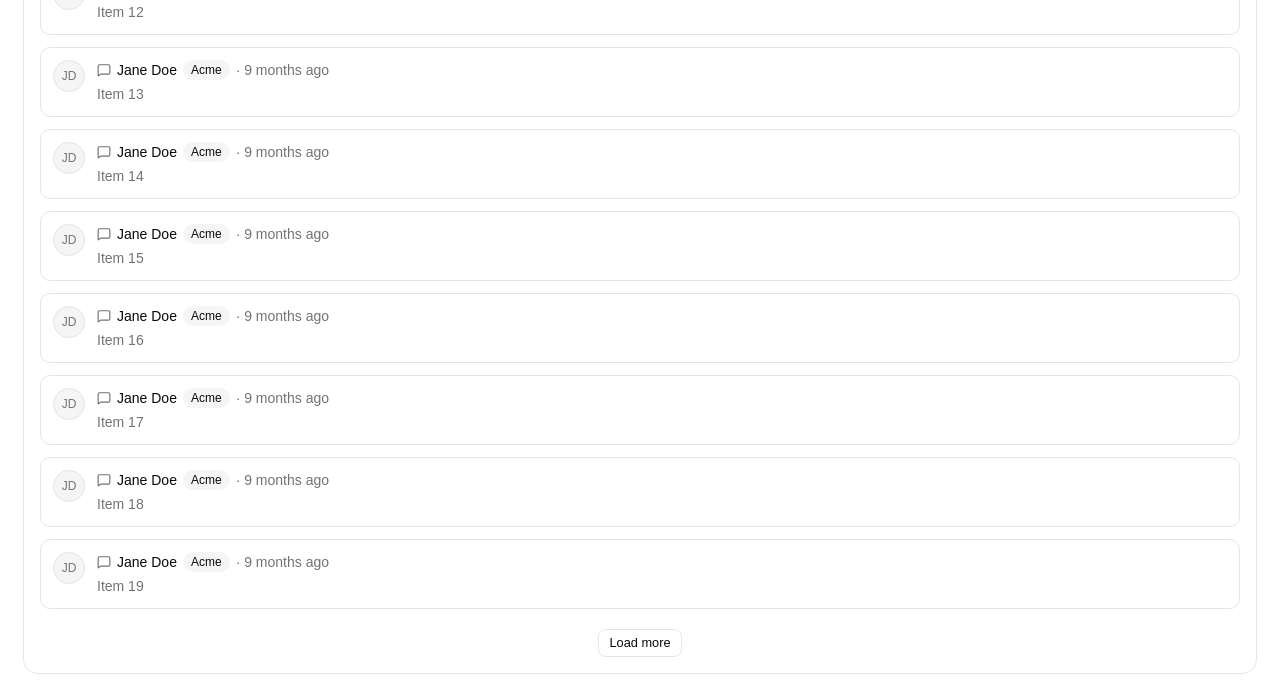
Test case: DashboardPage › loads more activity, increasing the requested limit
The width and height of the screenshot is (1280, 697).
(page scrolled)
Click the button "Load more" at [640, 643], box [598,629,682,657]
(page scrolled)
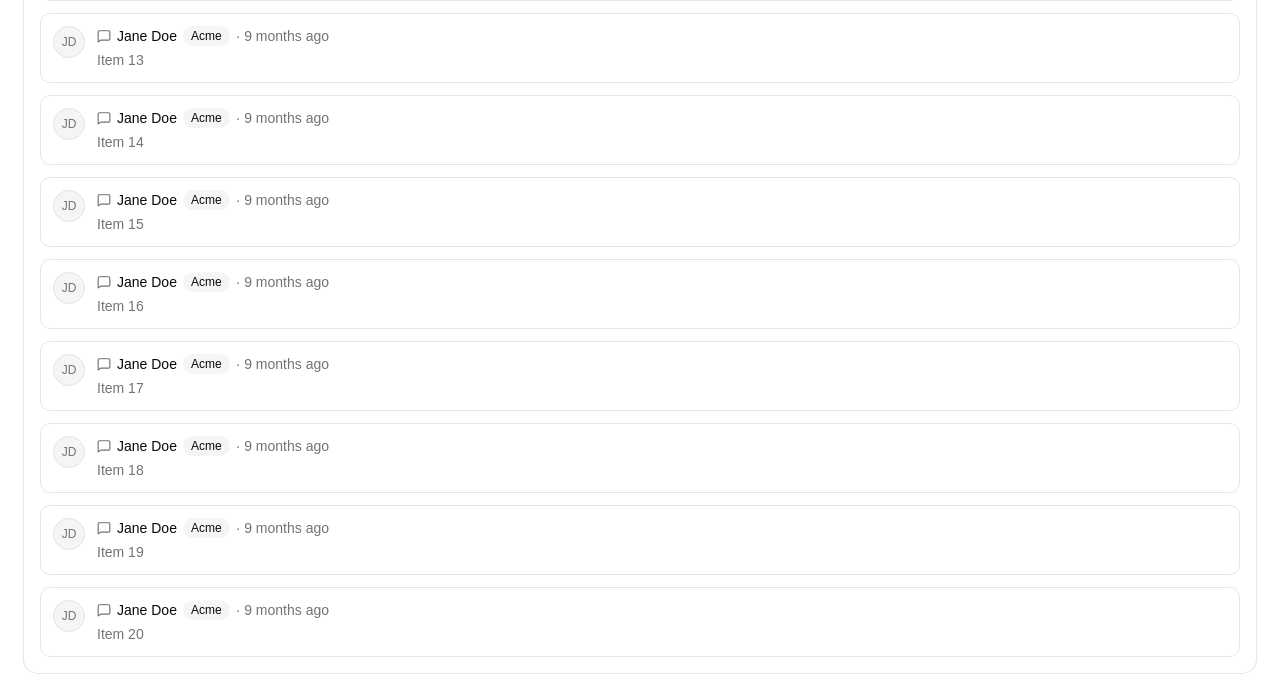
Check: the text "Item 20" is shown, box [97,626,144,642]
